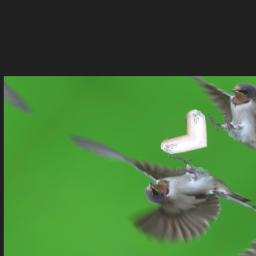Swallow: (39, 103, 256, 256)
